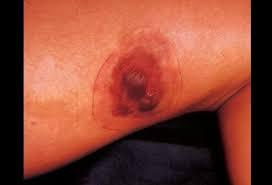Spider: (92, 33, 180, 121)
